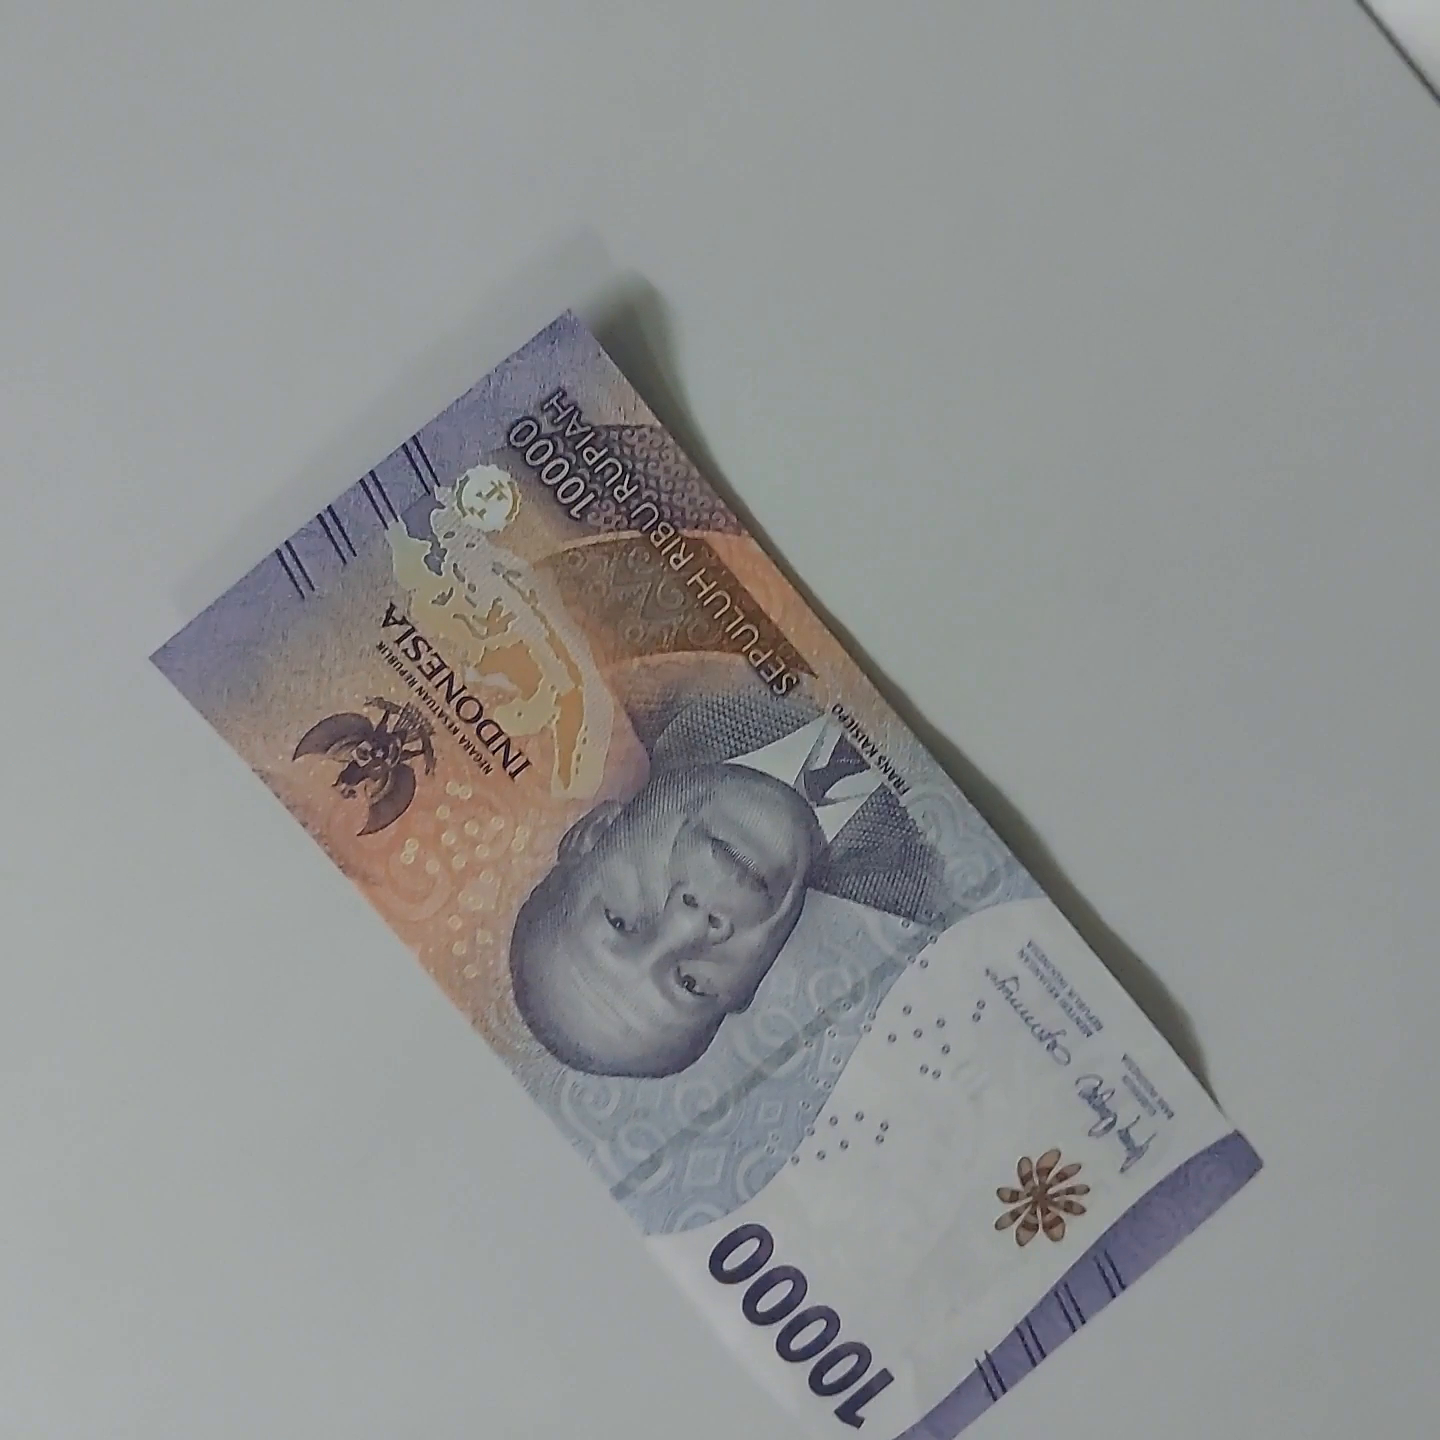10k: (150, 314, 1266, 1440)
